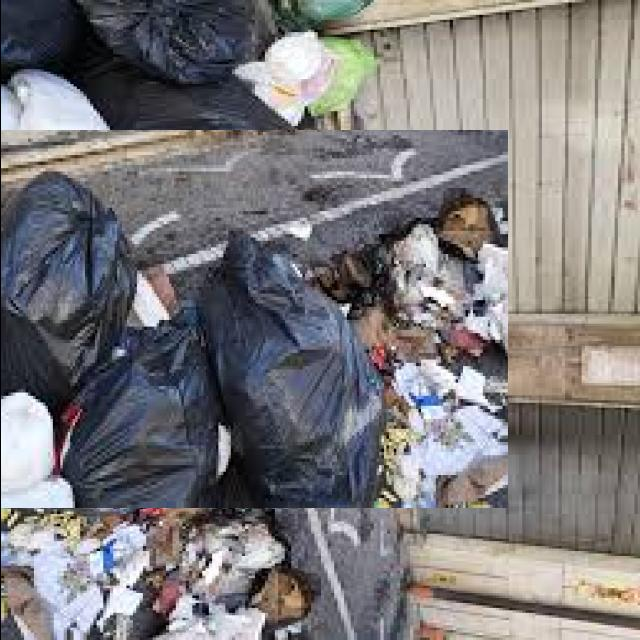garbage: (0, 65, 443, 573)
